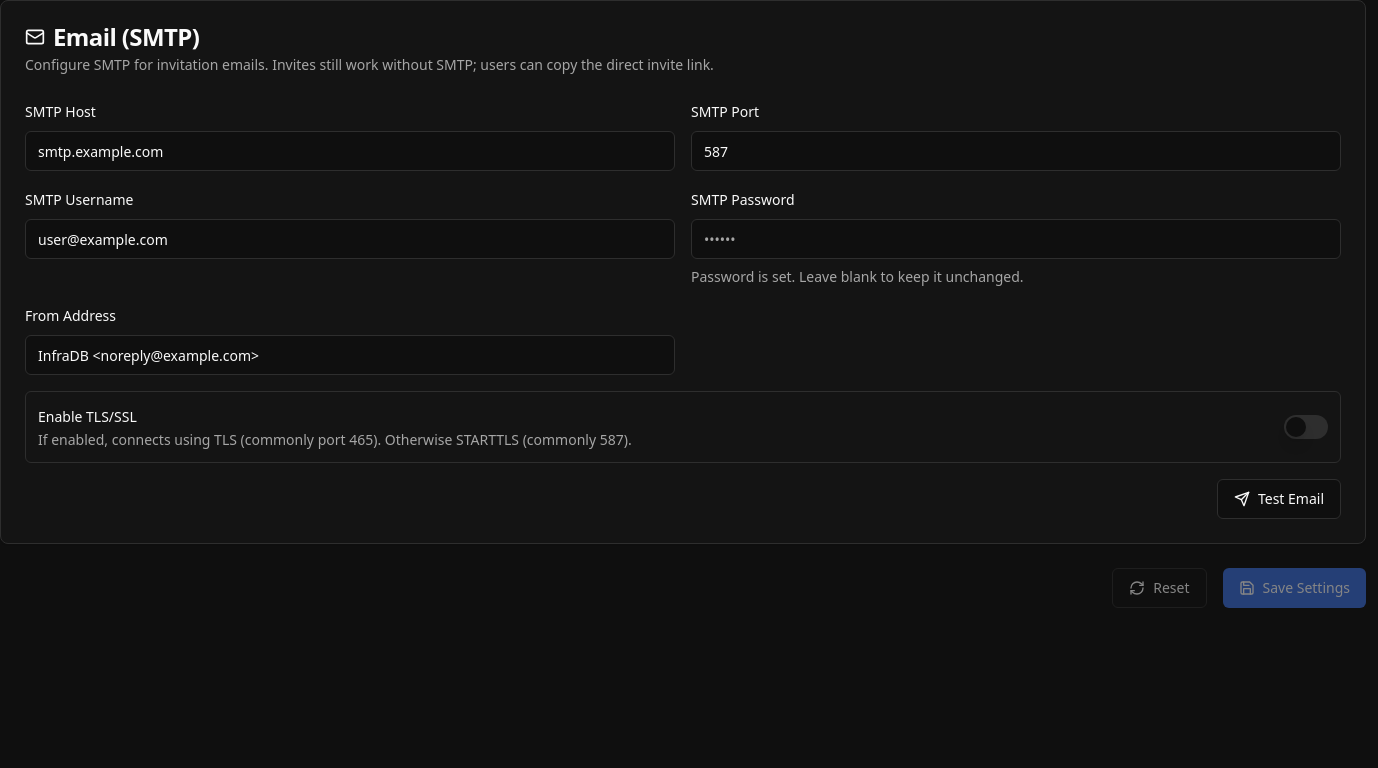
Test: AppSettings › enables save when TLS/SSL switch is toggled
Check: the field showing "smtp.example.com" is shown, box left=25, top=131, right=675, bottom=171
Check: the button "Save Settings" is disabled, box left=1222, top=568, right=1366, bottom=608
Click the switch named "enable tls/ssl" at (1306, 427), box left=1284, top=415, right=1328, bottom=439
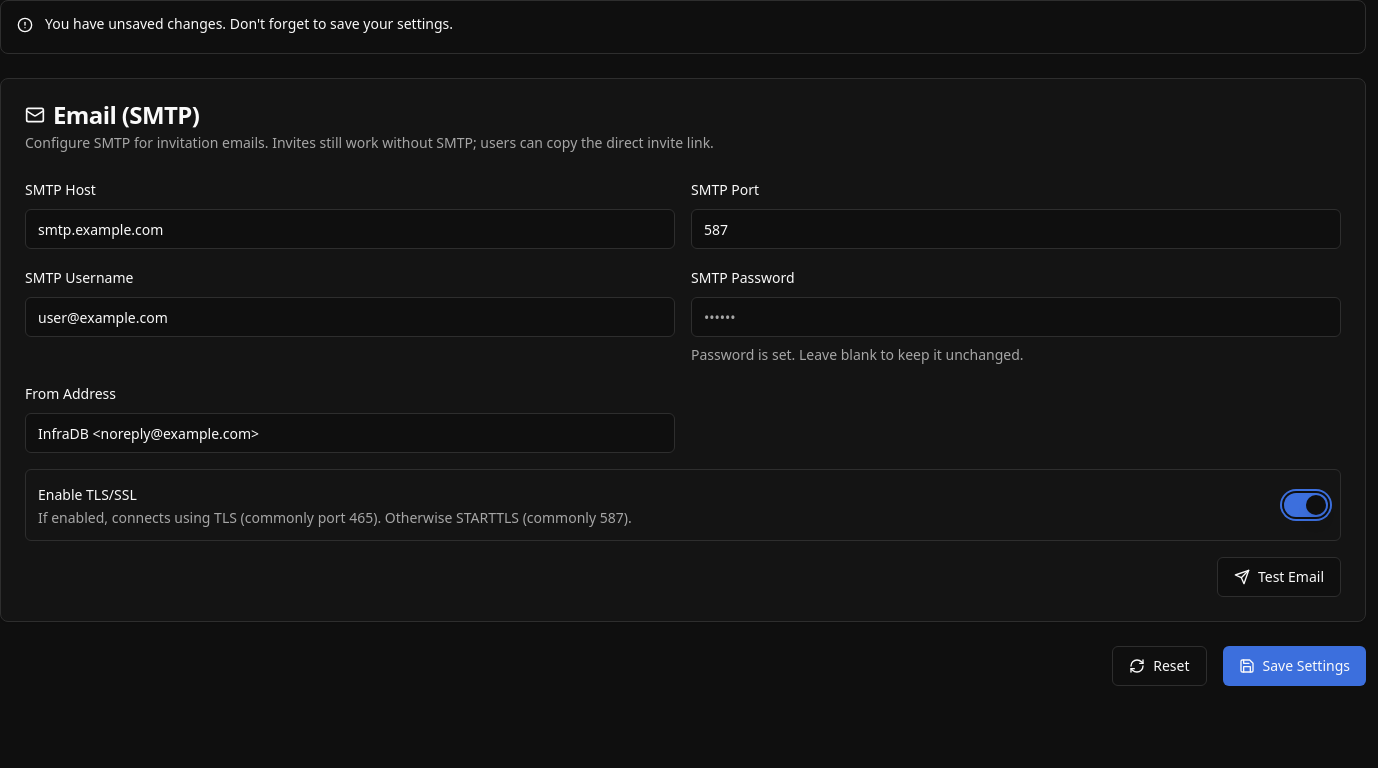
Check: the button "Save Settings" is enabled, box left=1222, top=646, right=1366, bottom=686
